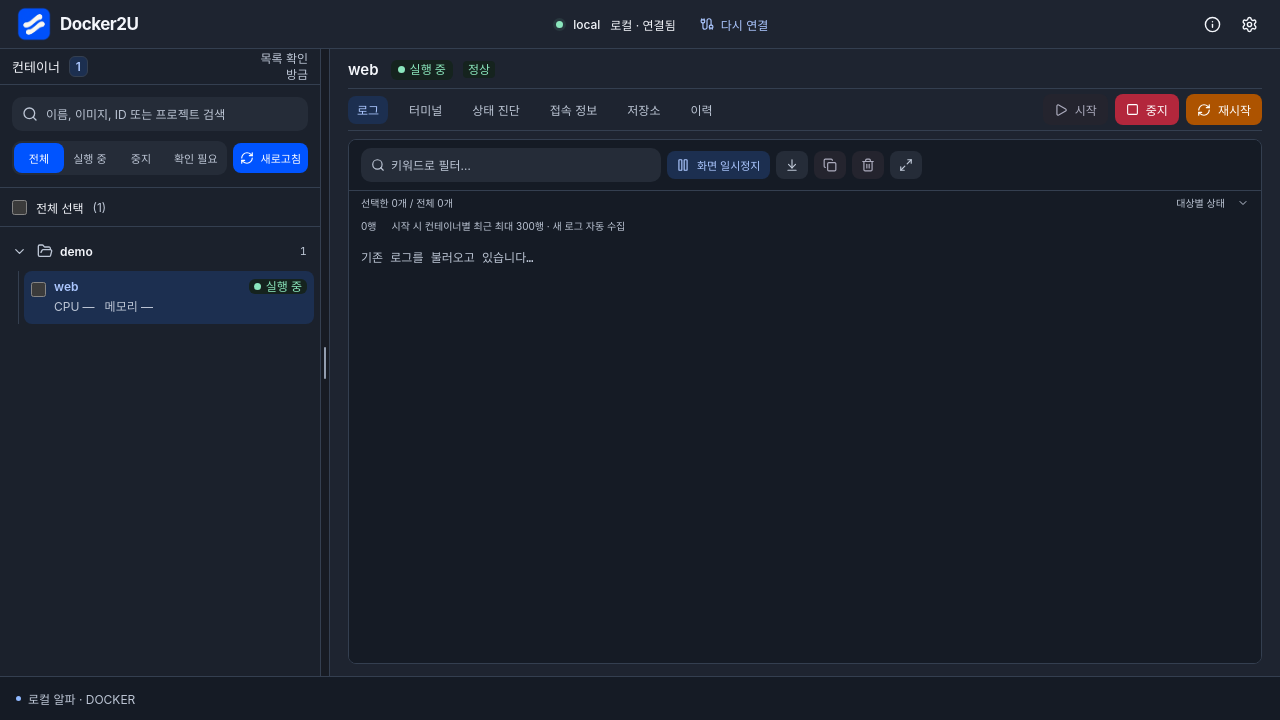
Test case: keeps the project view and collection scope when its last selected container disappears
This screenshot has width=1280, height=720.
Check: the list item with aria-label "web 상세" is shown, box [24,271,314,324]
Check: the button "새로고침" is enabled, box [232,143,308,173]
Click the list item with aria-label "demo 프로젝트". click: x=160, y=278
box: [6,233,314,324]
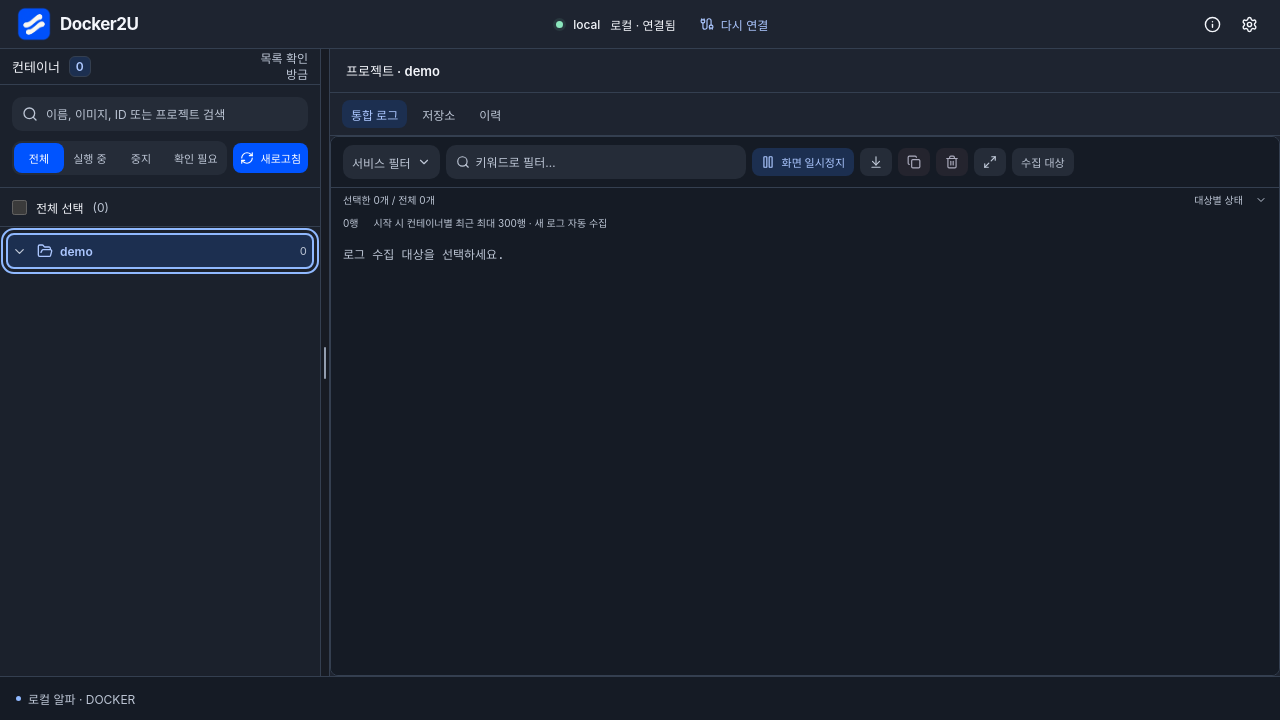
Check: the tab "통합 로그" is shown, box [342,100,407,128]
Check: the heading "프로젝트 · demo" is shown, box [346,61,440,80]
